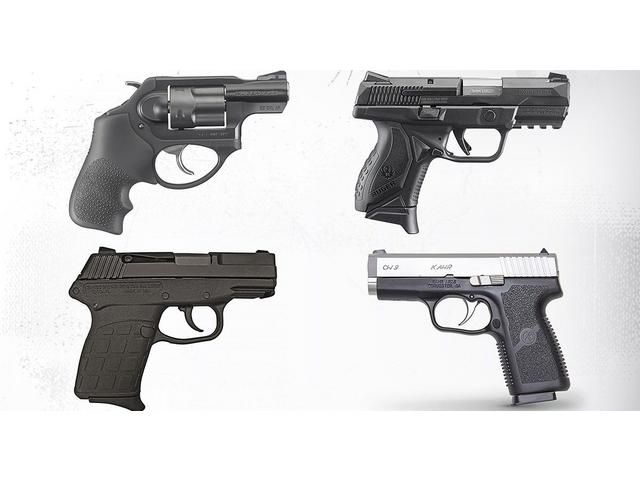pistol: (67, 70, 291, 243), (353, 74, 575, 232), (68, 248, 282, 410), (366, 250, 573, 407)
